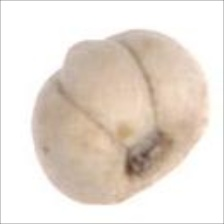L5: (50, 35, 158, 149), (124, 126, 183, 190)
L6: (29, 26, 211, 206)
